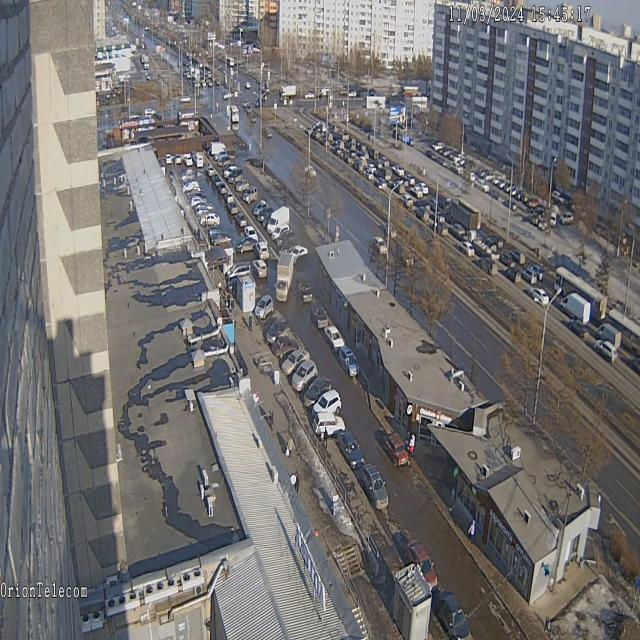car: (405, 537, 438, 595), (435, 586, 470, 640), (359, 459, 390, 512), (336, 426, 365, 471), (274, 251, 295, 303), (303, 375, 332, 411), (383, 428, 409, 468), (291, 358, 318, 394), (312, 389, 342, 421), (280, 346, 311, 376), (313, 412, 346, 439), (338, 342, 360, 378), (267, 204, 290, 238), (323, 323, 347, 355), (266, 316, 291, 345), (226, 260, 252, 285), (309, 300, 329, 332), (272, 336, 300, 358), (254, 293, 274, 323), (296, 272, 314, 304), (290, 243, 310, 266), (236, 235, 258, 255), (209, 230, 233, 247), (252, 199, 270, 219), (272, 222, 290, 242), (277, 228, 295, 248), (252, 258, 268, 280), (200, 212, 221, 228), (228, 166, 244, 187), (244, 224, 259, 246), (254, 240, 270, 260), (179, 168, 196, 186), (258, 205, 274, 224), (190, 195, 209, 211), (210, 142, 229, 158), (243, 185, 258, 204), (195, 201, 215, 215), (235, 210, 248, 231), (224, 162, 238, 180), (222, 187, 235, 206), (227, 200, 239, 218), (182, 182, 200, 194), (235, 178, 250, 192), (215, 181, 228, 197), (192, 153, 204, 170), (183, 152, 193, 169), (165, 153, 172, 167), (174, 154, 181, 166)
